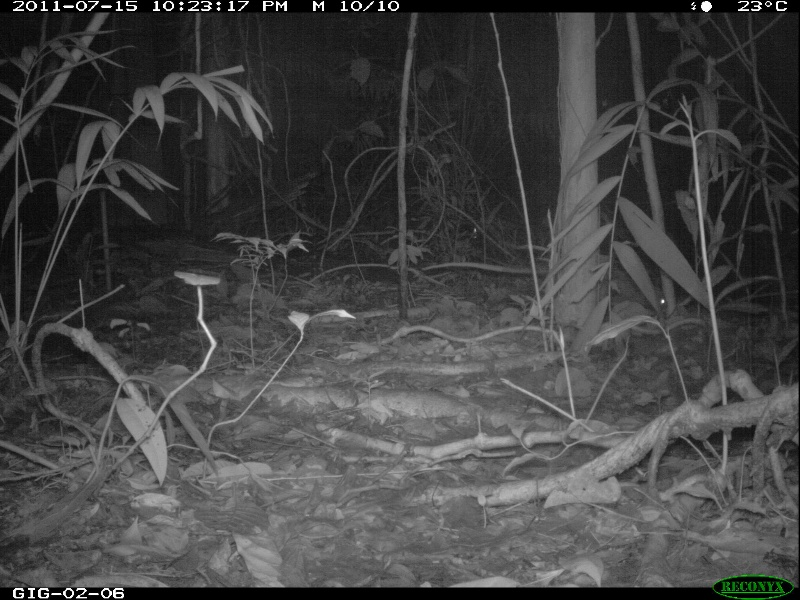opossum: (418, 256, 672, 313)
